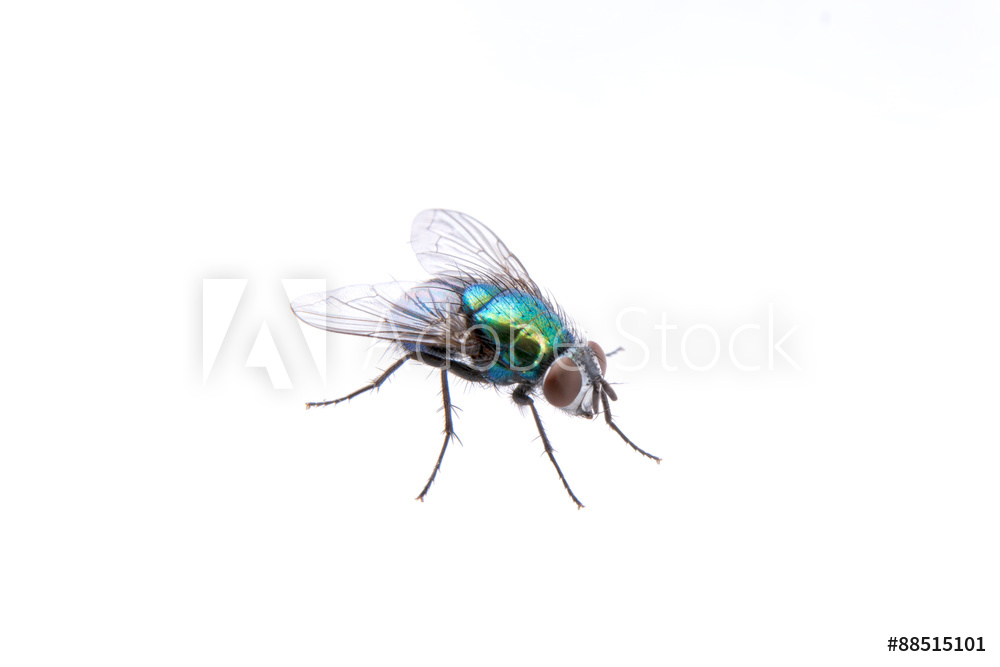fly: (268, 204, 677, 515)
